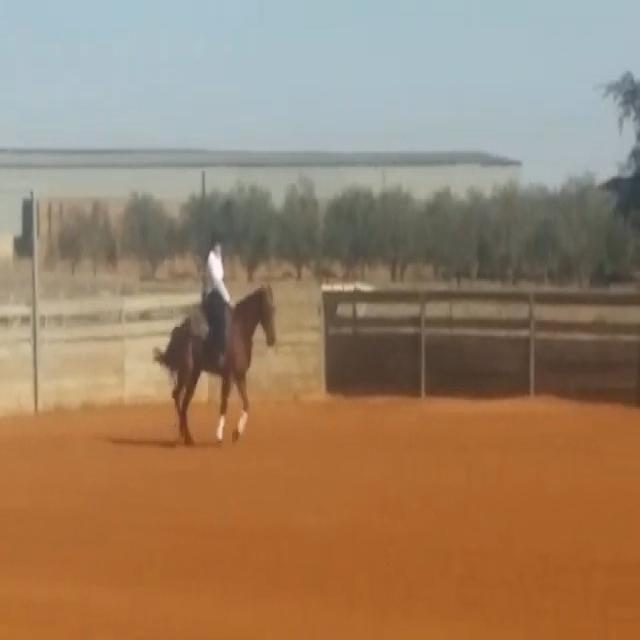horse: (151, 281, 278, 446)
